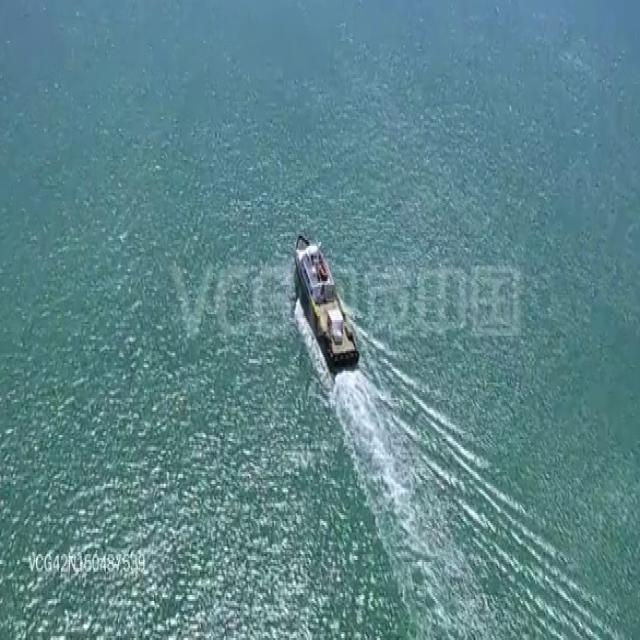houseboat: (290, 233, 358, 367)
